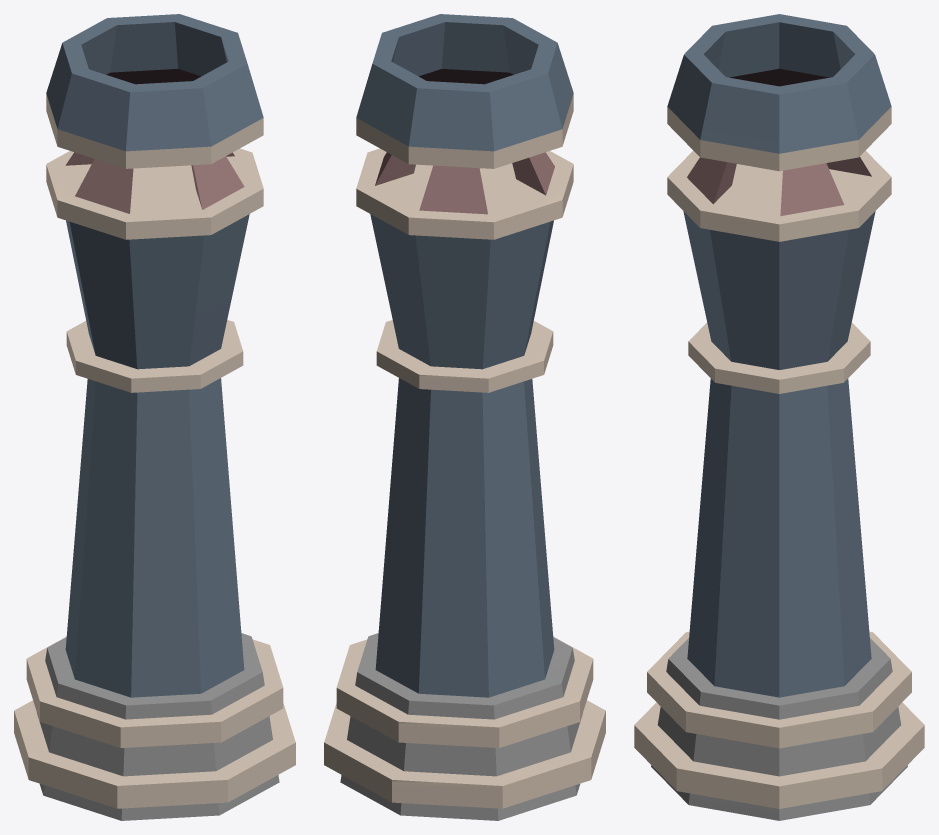
The model's file is Pillar.FBX.
The picture shows the model from 3 angles, left to right: view 1: azimuth 30°, elevation 25°; view 2: azimuth 150°, elevation 25°; view 3: azimuth 270°, elevation 25°; orthographic projection.
Visible parts, largest first — view 1: Cylinder007; view 2: Cylinder007; view 3: Cylinder007.
Part boxes in pixels (box(x1,y1,x2,y2)): Cylinder007: box(14, 14, 295, 820); Cylinder007: box(324, 14, 605, 820); Cylinder007: box(634, 14, 924, 820).
Size of the model in its own units: 32.58 by 88.17 by 32.58.
